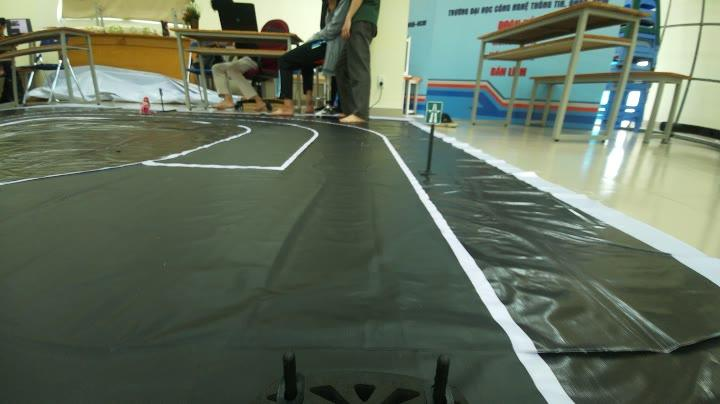highway_entry: (423, 95, 450, 129)
